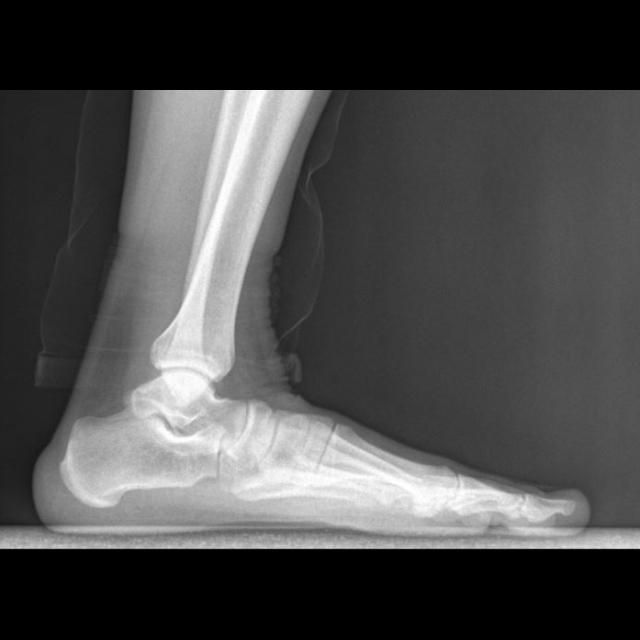a: (60, 406, 221, 506)
b: (221, 400, 276, 469)
c: (305, 423, 458, 517)
